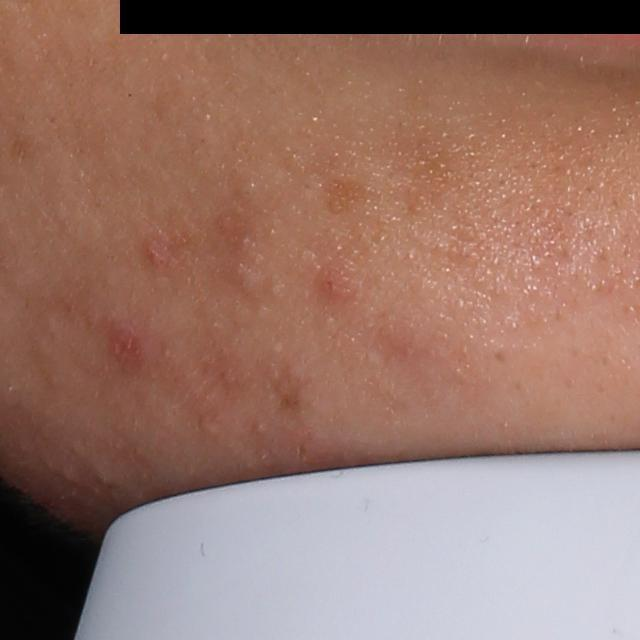papule: (312, 268, 356, 303), (112, 325, 144, 371), (146, 237, 174, 274)
